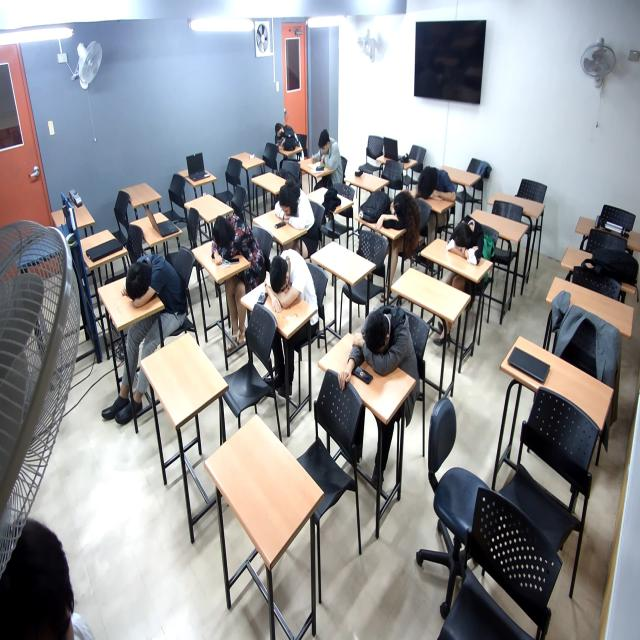sleep: (353, 302, 420, 376), (119, 247, 176, 316), (445, 210, 491, 276), (207, 212, 260, 268), (263, 256, 306, 317), (375, 192, 425, 244), (276, 182, 317, 232), (412, 165, 459, 204), (271, 122, 295, 153)
